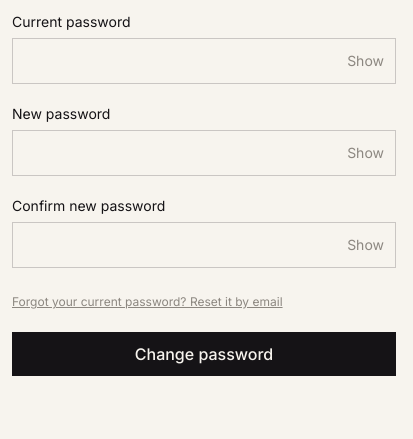
Test: PasswordForm › rejects a new password that equals the current one
In the password field labelled "Current password": coordinates (204, 61) 12,38 -> 396,84, type "samepassword1"
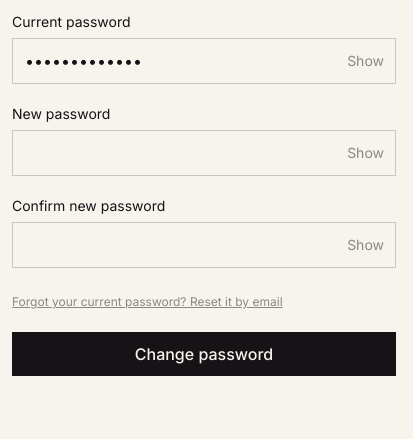
In the password field labelled "New password": coordinates (204, 153) 12,130 -> 396,176, type "samepassword1"
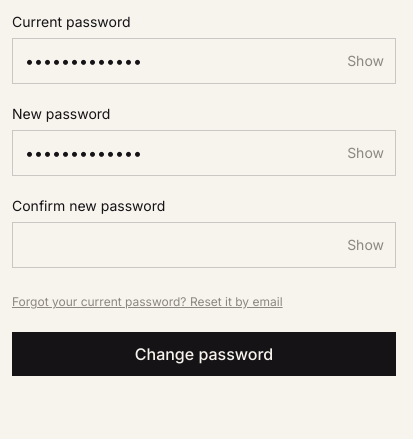
In the password field labelled "Confirm new password": coordinates (204, 245) 12,222 -> 396,268, type "samepassword1"
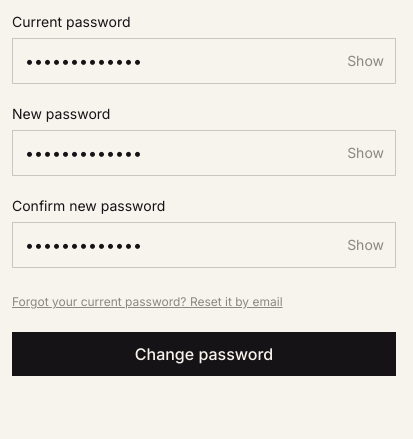
Click the button "Change password": coordinates (204, 354) 12,332 -> 396,376
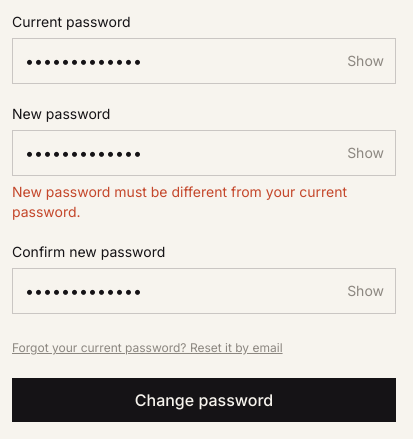
Check: the text "New password must be different from your current password." is shown, box 12,182 -> 396,222
